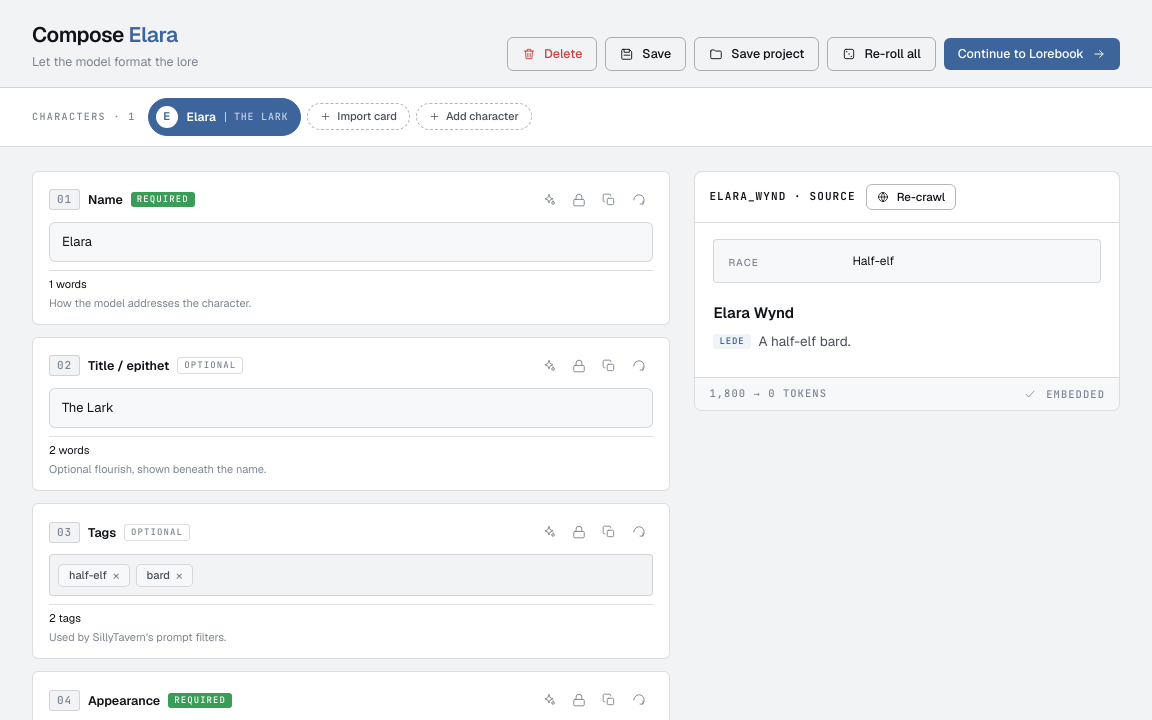
it: EditorScreen › handles add character error gracefully
The image size is (1152, 720).
Click the button "Add character": [474, 117] box x1=416 y1=103 x2=532 y2=130
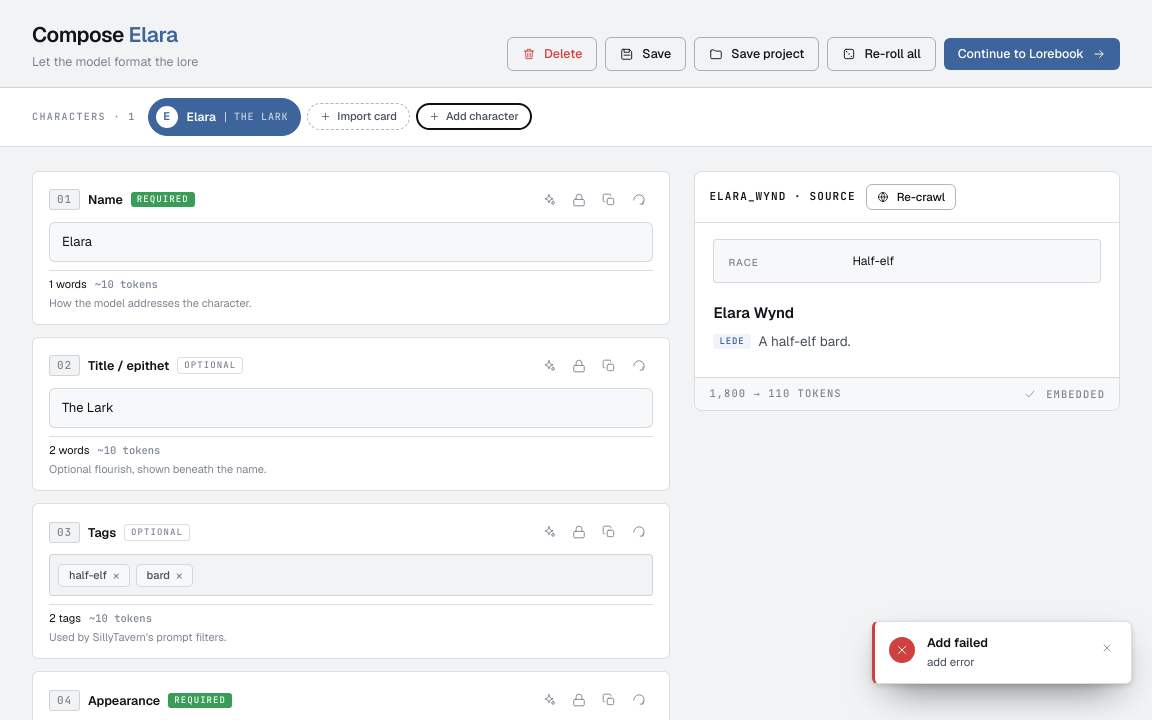
Result: the text "Add failed" is shown at x1=927 y1=634 x2=988 y2=651
